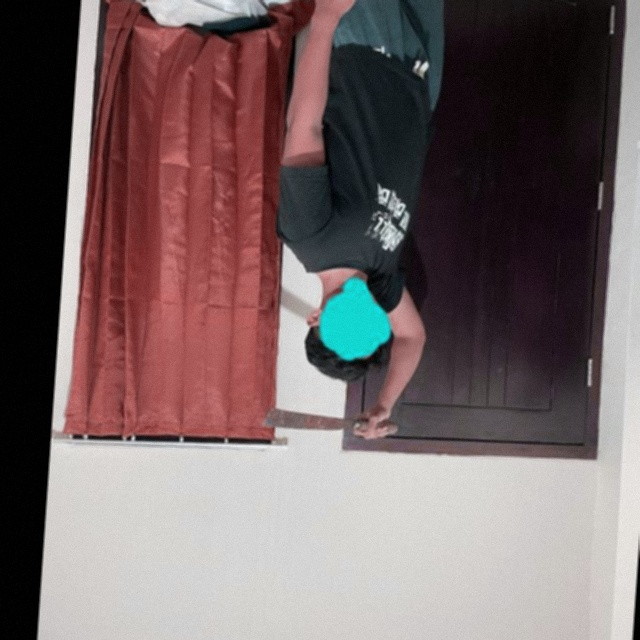Sharp-Object: (259, 405, 402, 440)
